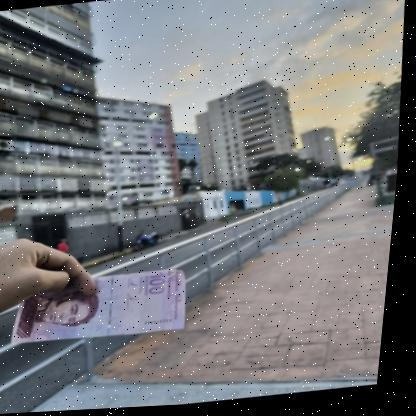vef_front: (15, 269, 196, 347)
